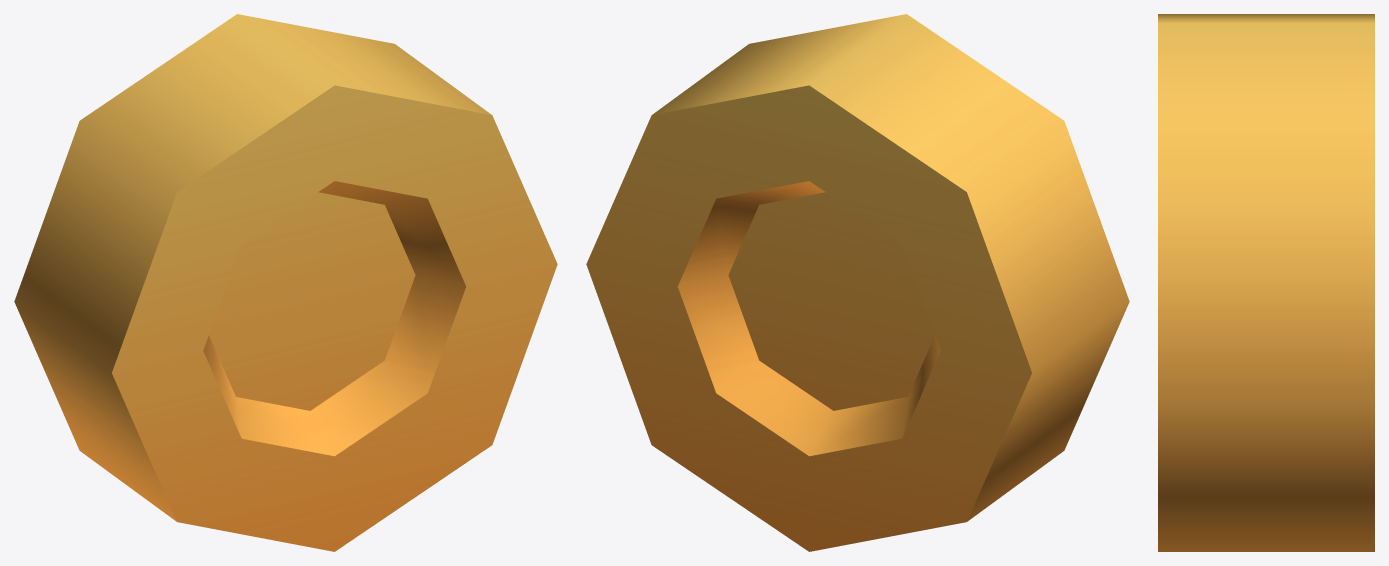
File: item-coin-gold.obj
3 views of the same model, side by side, from view 1: azimuth 30°, elevation 25°; view 2: azimuth 150°, elevation 25°; view 3: azimuth 270°, elevation 25° (orthographic). The views are drawn at different scales.
Parts seen in each view (by area): view 1: item-coin-gold; view 2: item-coin-gold; view 3: item-coin-gold.
Boxes of the visible parts, left/top/right/bottom form: item-coin-gold: left=14, top=14, right=557, bottom=551; item-coin-gold: left=586, top=14, right=1129, bottom=551; item-coin-gold: left=1158, top=14, right=1374, bottom=551.
Size of the model in its own units: 0.264 by 0.264 by 0.1.
Materials: 1 (1 with a texture image).
